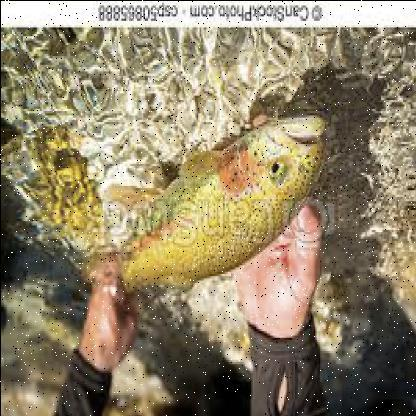fish: (90, 107, 328, 307)
